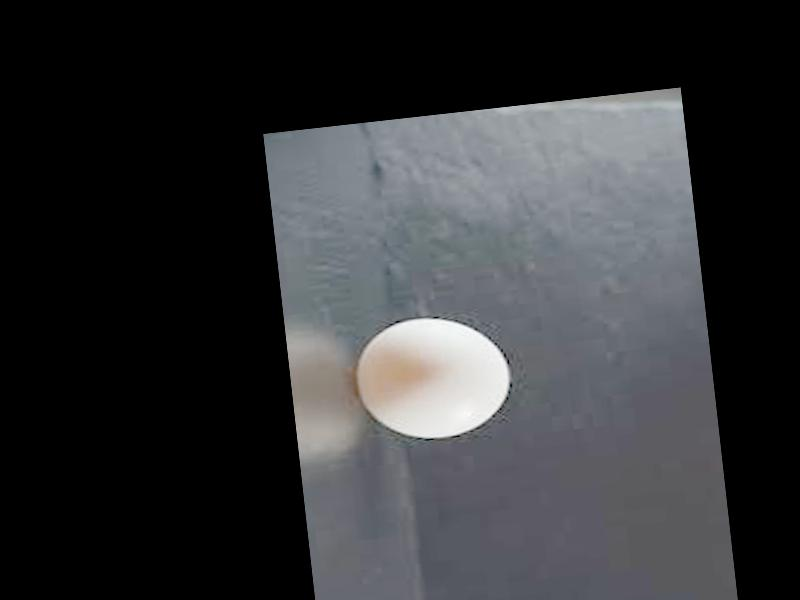Eggs: (351, 309, 518, 445)
